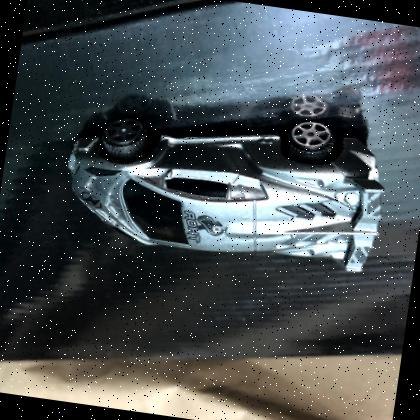Car: (68, 115, 385, 272)
